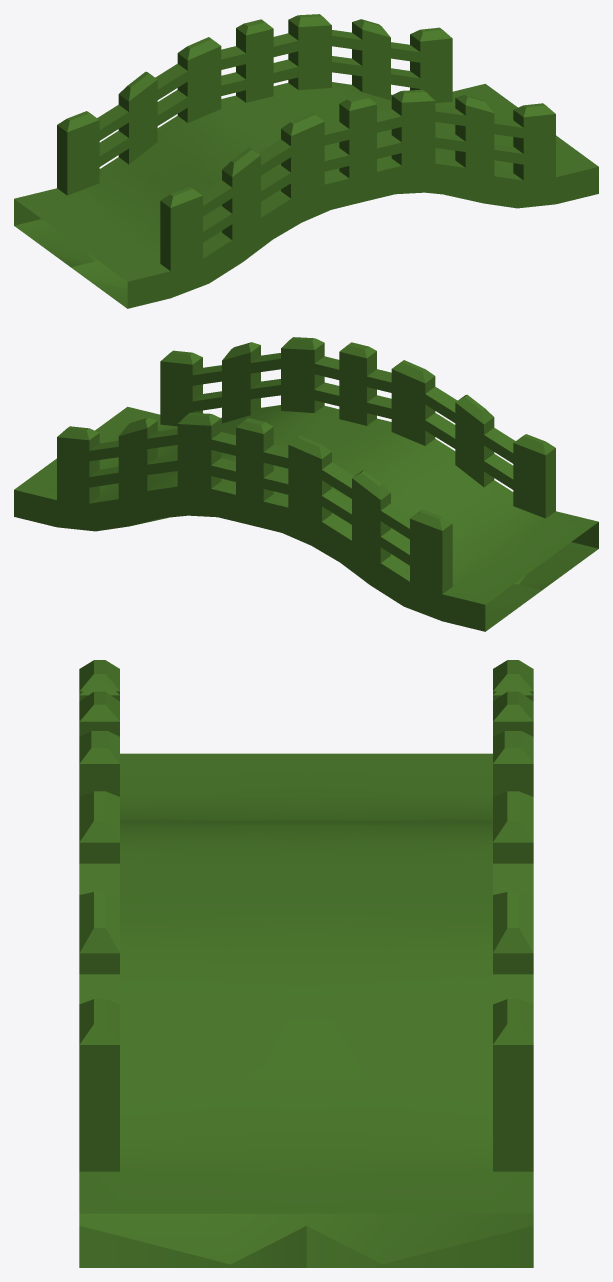
Rendered from Bridge.fbx.
3 views of the same model, one above another, from view 1: azimuth 30°, elevation 25°; view 2: azimuth 150°, elevation 25°; view 3: azimuth 270°, elevation 25° (orthographic). The views are drawn at different scales.
Visible parts, largest first — view 1: Island.003; view 2: Island.003; view 3: Island.003.
Part boxes in pixels (left/top/right/bottom): Island.003: left=14, top=14, right=598, bottom=308; Island.003: left=14, top=337, right=598, bottom=631; Island.003: left=79, top=660, right=533, bottom=1267.
Size of the model in its own units: 6.05 by 2.06 by 2.52.
